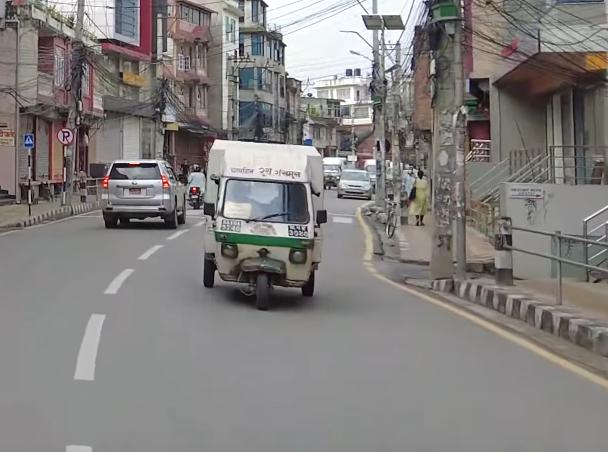SUV: (99, 157, 194, 235)
car: (336, 167, 375, 203)
tempo: (202, 133, 336, 316), (320, 155, 349, 191)
